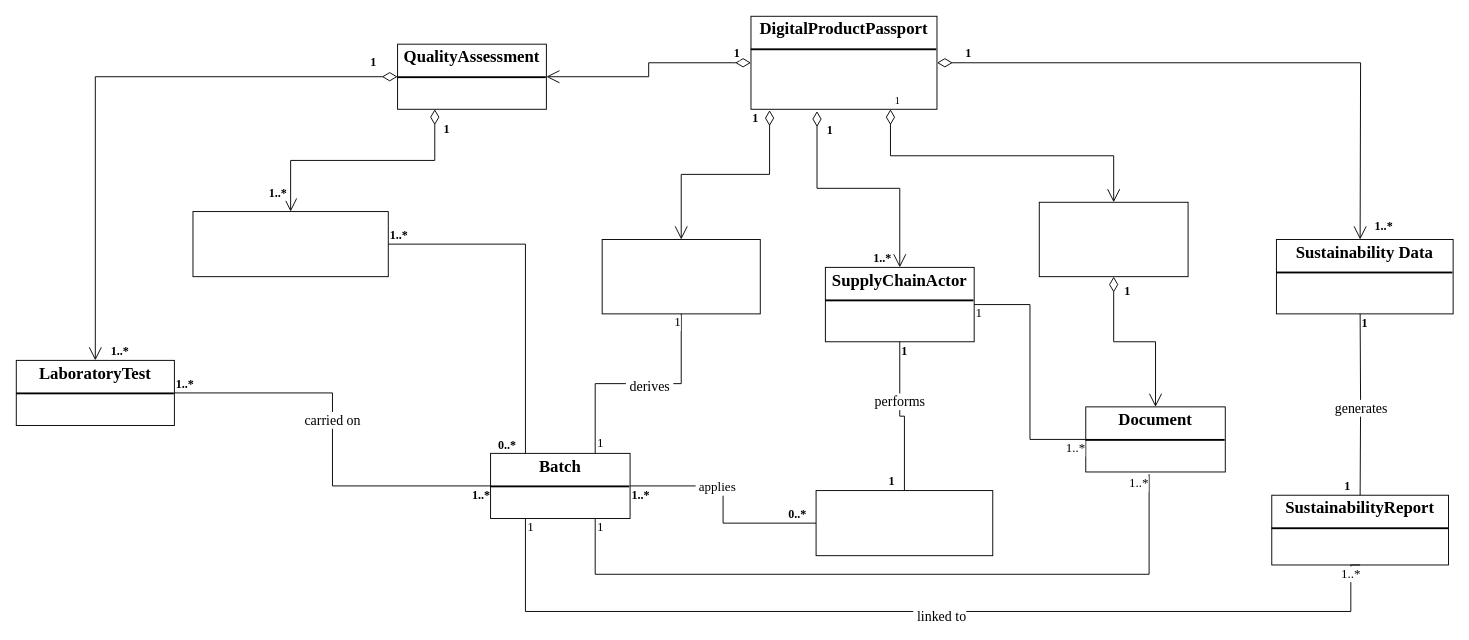
The diagram is 1469 pixels wide and 640 high, and some of its shapes have lost their labels. Here are the shapes that lost their labels. From the top down, the centre of each, then its label:
the point at 290,244: StorageAndHandling
the point at 1113,239: Reg Certifs
the point at 680,276: InsectProteinData
the point at 904,523: SupplyChainEvent
